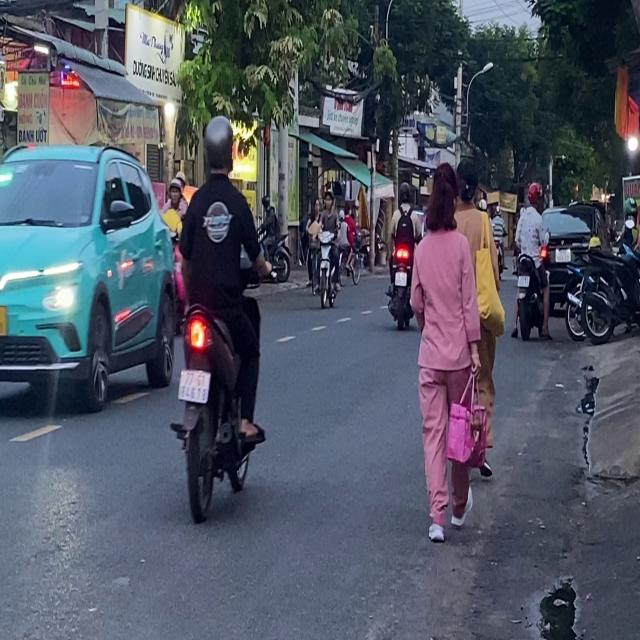helmet: (202, 113, 236, 177), (168, 175, 183, 206), (526, 180, 541, 208)
licenseplate: (168, 111, 269, 519), (512, 180, 552, 340)
nohelmet: (178, 370, 210, 401), (517, 274, 529, 287)
